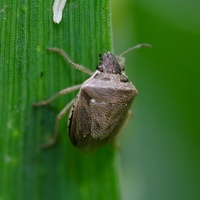insect: (33, 44, 150, 149)
